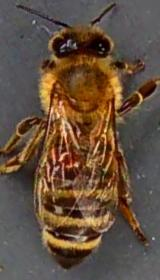varroa_mite: (51, 144, 85, 174)
